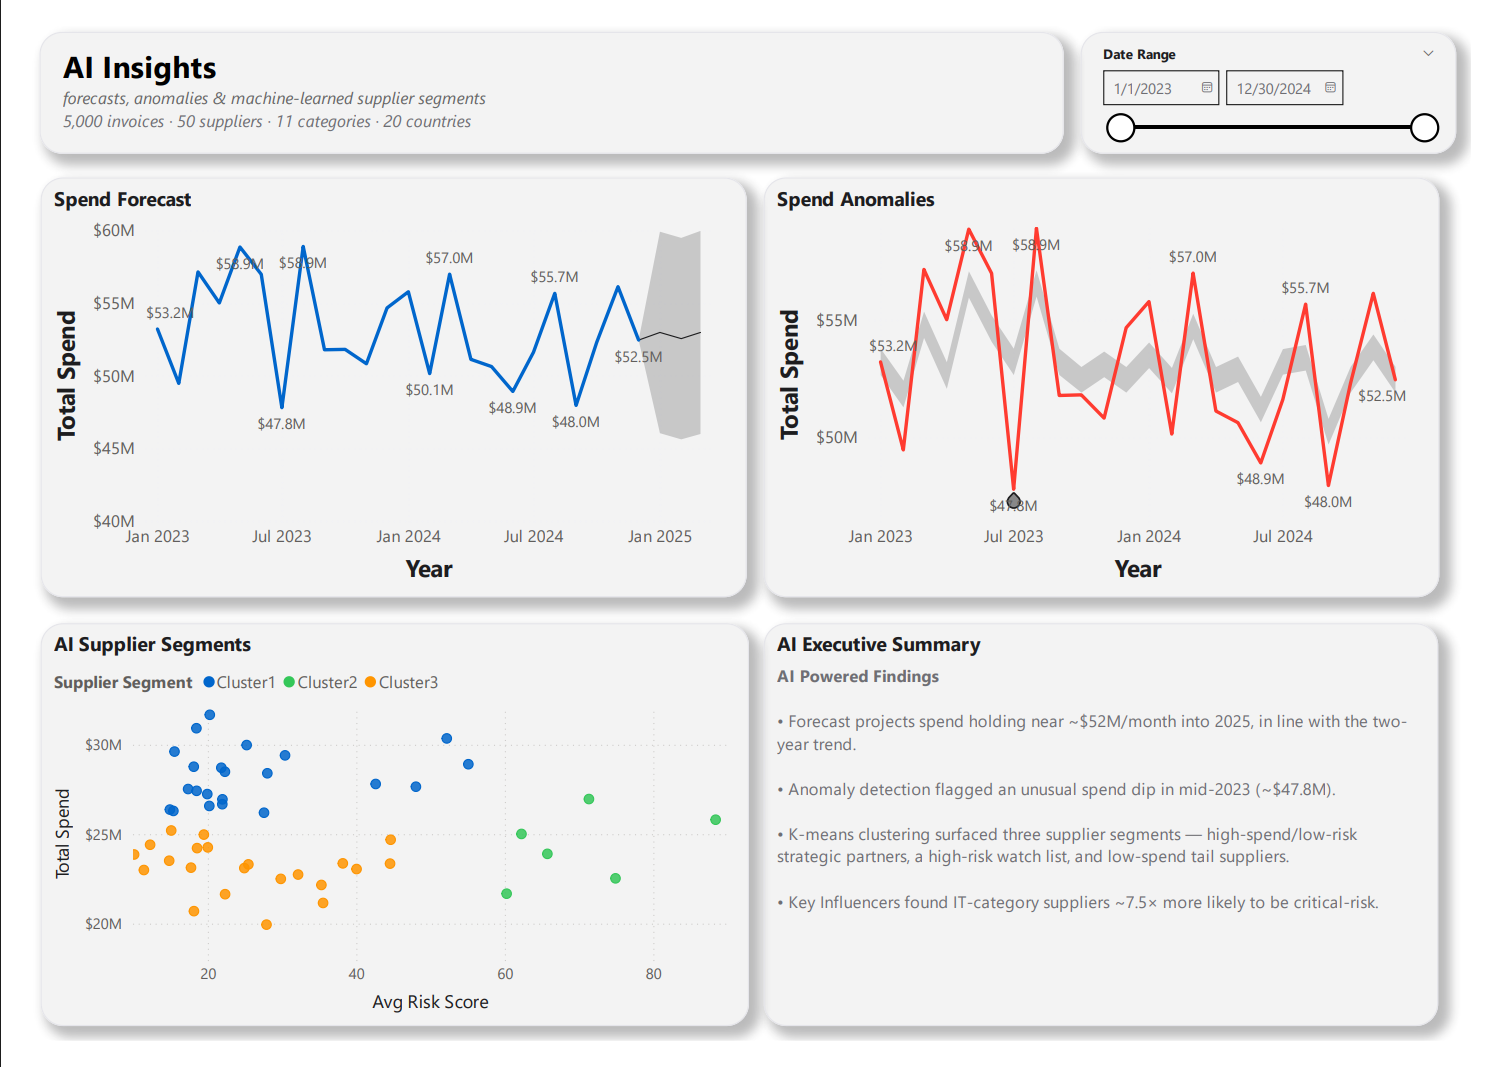

Layout of this report page (visuals, bound fields, positions):
{"tool":"powerbi","page":{"name":"AI Insights","canvas":[1280,900],"ordinal":5},"visuals":[{"type":"textbox","box":[11.4,5.7,907.1,108.6],"z":0},{"type":"lineChart","title":"Spend Forecast","fields":{"Y":["procurement_data.Total Spend"],"Category":["procurement_data.Month Start.Variation.Date Hierarchy.Year","procurement_data.Month Start.Variation.Date Hierarchy.Quarter","procurement_data.Month Start.Variation.Date Hierarchy.Month","procurement_data.Month Start.Variation.Date Hierarchy.Day"]},"box":[11.7,135,626.7,371.7],"z":1000},{"type":"slicer","fields":{"Values":["procurement_data.Date"]},"box":[934.3,5.7,332.9,108.6],"z":2000},{"type":"lineChart","title":"Spend Anomalies","fields":{"Y":["procurement_data.Total Spend"],"Category":["procurement_data.Month Start.Variation.Date Hierarchy.Year","procurement_data.Month Start.Variation.Date Hierarchy.Quarter","procurement_data.Month Start.Variation.Date Hierarchy.Month","procurement_data.Month Start.Variation.Date Hierarchy.Day"]},"box":[653.3,135,598.3,371.7],"z":3000},{"type":"scatterChart","title":"AI Supplier Segments","fields":{"Category":["procurement_data.Supplier"],"X":["procurement_data.Avg Risk Score"],"Y":["procurement_data.Total Spend"],"Series":["procurement_data.Supplier Segment"]},"box":[11.7,530,628.3,356.7],"z":4000},{"type":"textbox","title":"AI Executive Summary","box":[653,530,598,357],"z":5000}]}

Visuals, with their boxes in screenshot pixels (x1, y1, x2, y2), scaled from the page's 1280x900 canvas onto the 1497x1067 screenshot:
textbox: {"x1": 13, "y1": 7, "x2": 1074, "y2": 136}
"Spend Forecast" lineChart: {"x1": 14, "y1": 160, "x2": 747, "y2": 601}
slicer - procurement_data.Date: {"x1": 1093, "y1": 7, "x2": 1482, "y2": 136}
"Spend Anomalies" lineChart: {"x1": 764, "y1": 160, "x2": 1464, "y2": 601}
"AI Supplier Segments" scatterChart: {"x1": 14, "y1": 628, "x2": 748, "y2": 1051}
"AI Executive Summary" textbox: {"x1": 764, "y1": 628, "x2": 1463, "y2": 1052}
